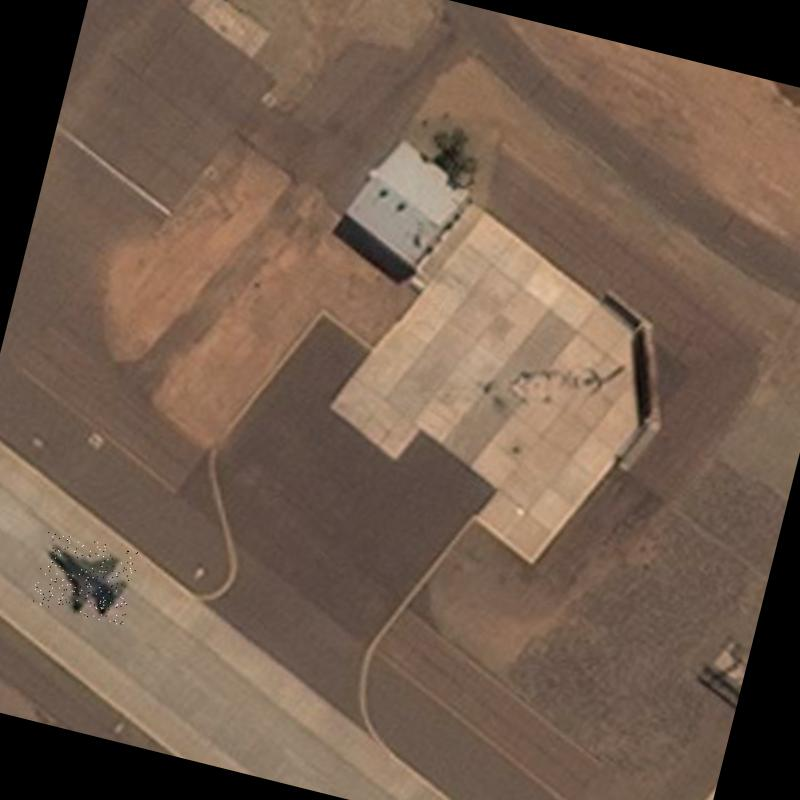A5: (30, 530, 140, 626)
